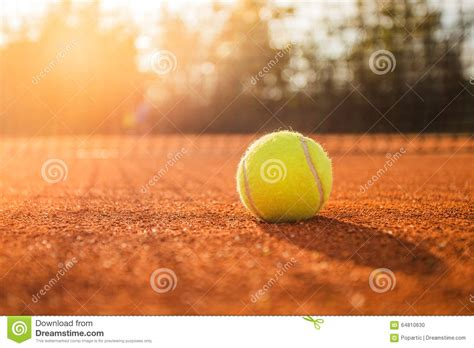tennis_ball: (237, 130, 332, 223)
